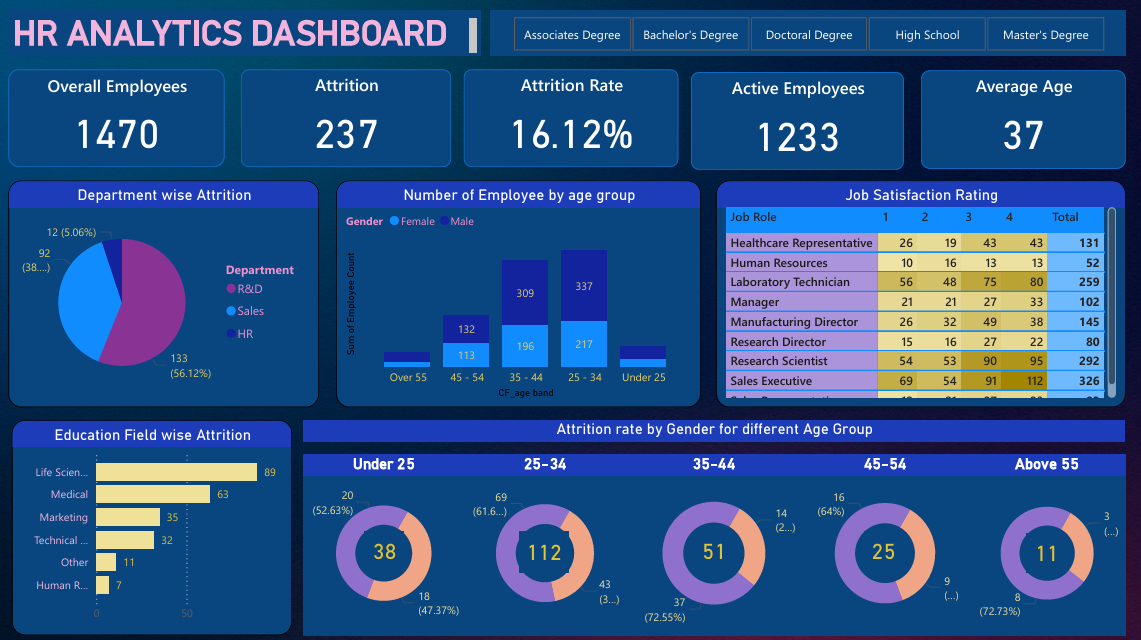

The dashboard page shown, as its layout file describes it:
{"tool":"powerbi","page":{"name":"Page 1","canvas":[1280,720],"ordinal":0},"visuals":[{"type":"card","title":"Overall Employees","fields":{"Values":["Sum(HR data.Employee Count)"]},"box":[12.7,79.5,241.8,109.8],"z":0},{"type":"card","title":"Attrition","fields":{"Values":["Sum(HR data.Attrition count)"]},"box":[272,79.5,233.8,109.8],"z":1000},{"type":"card","title":"Attrition Rate","fields":{"Values":["HR data.Attrition Rate"]},"box":[520.1,79.5,238.6,109.8],"z":2000},{"type":"card","title":"Active Employees","fields":{"Values":["HR data.Active Employees"]},"box":[773,82.7,237,109.8],"z":3000},{"type":"card","title":"Average Age","fields":{"Values":["Avg(HR data.Age)"]},"box":[1029.1,81.1,227.5,109.8],"z":4000},{"type":"pieChart","title":"Department wise Attrition ","fields":{"Category":["HR data.Department"],"Y":["Sum(HR data.Attrition count)"]},"box":[13.2,204.1,345.8,253.2],"z":5000},{"type":"columnChart","title":"Number of Employee by age group ","fields":{"Category":["HR data.CF_age band"],"Y":["Sum(HR data.Employee Count)"],"Series":["HR data.Gender"]},"box":[378,204.1,406.3,253.2],"z":6000},{"type":"pivotTable","title":"Job Satisfaction Rating","fields":{"Rows":["HR data.Job Role"],"Columns":["HR data.Job Satisfaction"],"Values":["Sum(HR data.Employee Count)"]},"box":[801.3,204.1,455.4,253.2],"z":7000},{"type":"barChart","title":"Education Field wise Attrition","fields":{"Category":["HR data.Education Field"],"Y":["Sum(HR data.Attrition count)"]},"box":[17,470.6,311.8,240],"z":8000},{"type":"donutChart","title":"Under 25","fields":{"Y":["Sum(HR data.Attrition count)"],"Category":["HR data.Gender"],"Series":["HR data.CF_age band"]},"box":[342,509,178.1,202],"z":9000},{"type":"textbox","title":"Attrition rate by Gender for different Age Group","box":[342,470.8,914.6,23.9],"z":10000},{"type":"donutChart","title":"25-34","fields":{"Y":["Sum(HR data.Attrition count)"],"Category":["HR data.Gender"],"Series":["HR data.CF_age band"]},"box":[520.1,509,181.3,202],"z":11000},{"type":"donutChart","title":"35-44","fields":{"Y":["Sum(HR data.Attrition count)"],"Category":["HR data.Gender"],"Series":["HR data.CF_age band"]},"box":[701.5,509,194.1,202],"z":12000},{"type":"donutChart","title":"Above 55","fields":{"Y":["Sum(HR data.Attrition count)"],"Category":["HR data.Gender"],"Series":["HR data.CF_age band"]},"box":[1081.6,509,175,202],"z":13000},{"type":"donutChart","title":"45-54","fields":{"Y":["Sum(HR data.Attrition count)"],"Category":["HR data.Gender"],"Series":["HR data.CF_age band"]},"box":[895.5,509,186.1,202],"z":14000},{"type":"card","fields":{"Values":["Sum(HR data.Attrition count)"]},"box":[410.1,595.3,43.5,43.5],"z":15000},{"type":"card","fields":{"Values":["Sum(HR data.Attrition count)"]},"box":[582.1,595.3,54.8,45.4],"z":16000},{"type":"card","fields":{"Values":["Sum(HR data.Attrition count)"]},"box":[776.7,595.3,43.5,43.5],"z":16001},{"type":"card","fields":{"Values":["Sum(HR data.Attrition count)"]},"box":[965.7,595.3,43.5,43.5],"z":16002},{"type":"card","fields":{"Values":["Sum(HR data.Attrition count)"]},"box":[1147.1,597.2,43.5,43.5],"z":16003},{"type":"textbox","box":[13.2,15.1,525.4,51],"z":16004},{"type":"slicer","fields":{"Values":["HR data.Education"]},"box":[549.9,15.1,706.8,51],"z":16005}]}

Visuals, with their boxes in screenshot pixels (x1, y1, x2, y2), scaled from the page's 1280x720 canvas onto the 1141x640 screenshot:
"Overall Employees" card: crop(11, 71, 227, 168)
"Attrition" card: crop(242, 71, 451, 168)
"Attrition Rate" card: crop(464, 71, 676, 168)
"Active Employees" card: crop(689, 74, 900, 171)
"Average Age" card: crop(917, 72, 1120, 170)
"Department wise Attrition " pieChart: crop(12, 181, 320, 406)
"Number of Employee by age group " columnChart: crop(337, 181, 699, 406)
"Job Satisfaction Rating" pivotTable: crop(714, 181, 1120, 406)
"Education Field wise Attrition" barChart: crop(15, 418, 293, 632)
"Under 25" donutChart: crop(305, 452, 464, 632)
"Attrition rate by Gender for different Age Group" textbox: crop(305, 418, 1120, 440)
"25-34" donutChart: crop(464, 452, 625, 632)
"35-44" donutChart: crop(625, 452, 798, 632)
"Above 55" donutChart: crop(964, 452, 1120, 632)
"45-54" donutChart: crop(798, 452, 964, 632)
card - Sum(HR data.Attrition count): crop(366, 529, 404, 568)
card - Sum(HR data.Attrition count): crop(519, 529, 568, 570)
card - Sum(HR data.Attrition count): crop(692, 529, 731, 568)
card - Sum(HR data.Attrition count): crop(861, 529, 900, 568)
card - Sum(HR data.Attrition count): crop(1023, 531, 1061, 570)
textbox: crop(12, 13, 480, 59)
slicer - HR data.Education: crop(490, 13, 1120, 59)
